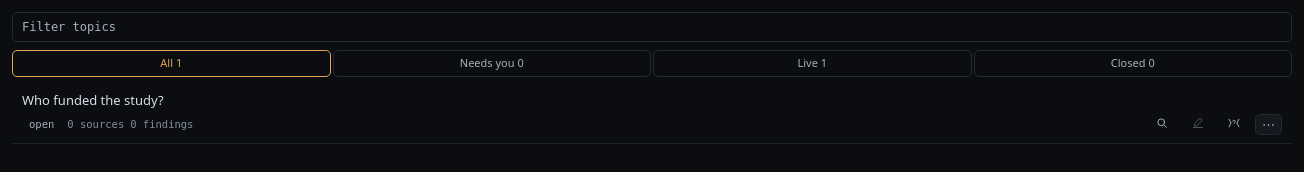
Test case: says the filter is hiding the queue, not that the project has no topics
Expected: the text "Who funded the study?" is shown, x1=22 y1=90 x2=164 y2=108
Type "zzzz" into the search field labelled "Filter topics".
click(652, 27); type("zzzz")  # box x1=12 y1=12 x2=1292 y2=42
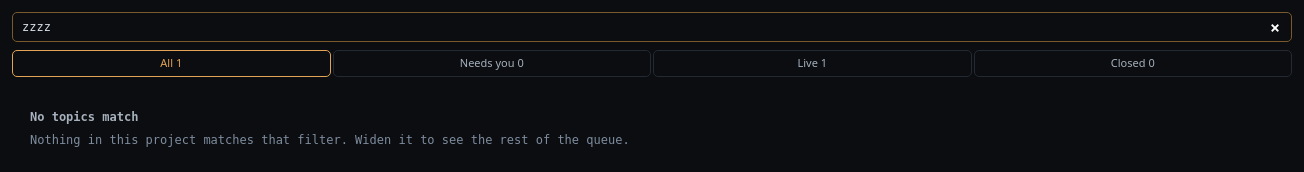
Now the text "No topics match" is shown, box x1=30 y1=110 x2=138 y2=124
